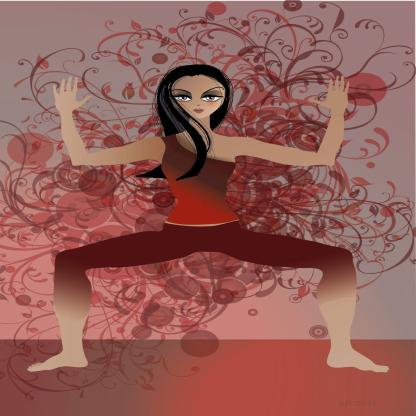godness: (19, 57, 400, 381)
